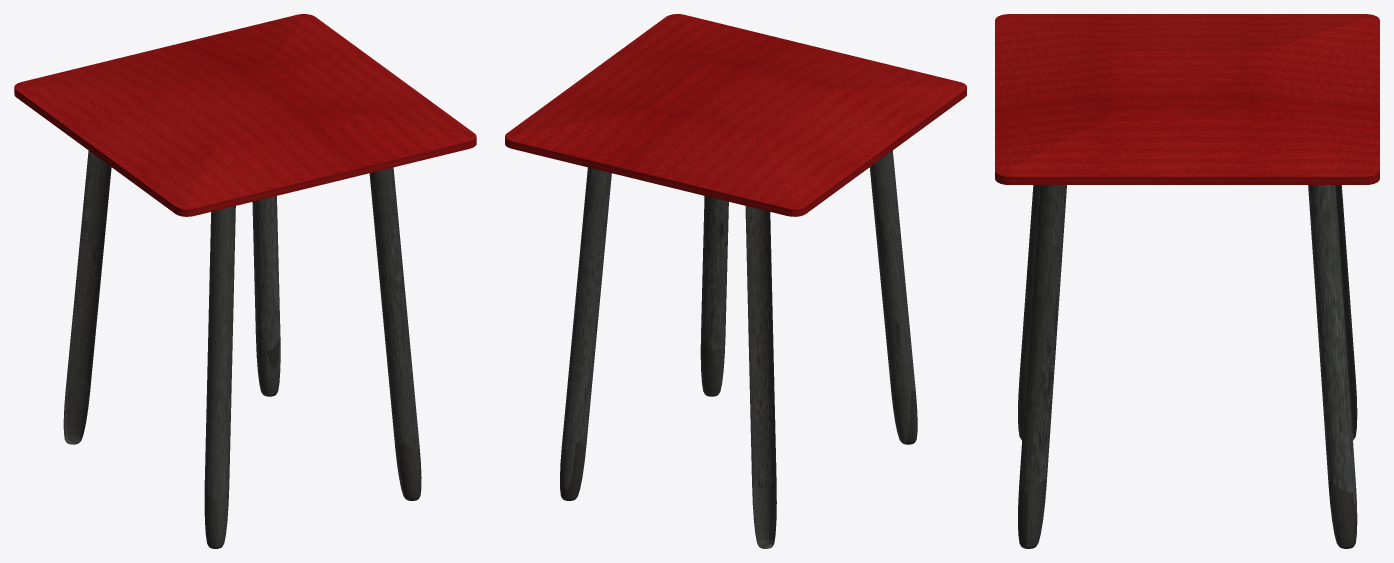
Rendered from табурет 2.glb.
The picture shows the model from 3 angles, left to right: view 1: azimuth 30°, elevation 25°; view 2: azimuth 150°, elevation 25°; view 3: azimuth 270°, elevation 25°; orthographic projection. The views are drawn at different scales.
Visible parts, largest first — view 1: Cube, Cylinder; view 2: Cube, Cylinder; view 3: Cube, Cylinder.
Part boxes in pixels (x1,y1,x2,y2): Cube: [14, 14, 476, 216]; Cylinder: [63, 151, 421, 548]; Cube: [505, 14, 966, 216]; Cylinder: [560, 150, 917, 548]; Cube: [995, 14, 1379, 184]; Cylinder: [1018, 185, 1357, 548].
Bounding box in the file's own units: 0.7 × 0.8251 × 0.7.
Materials: 2 (2 with a texture image).
